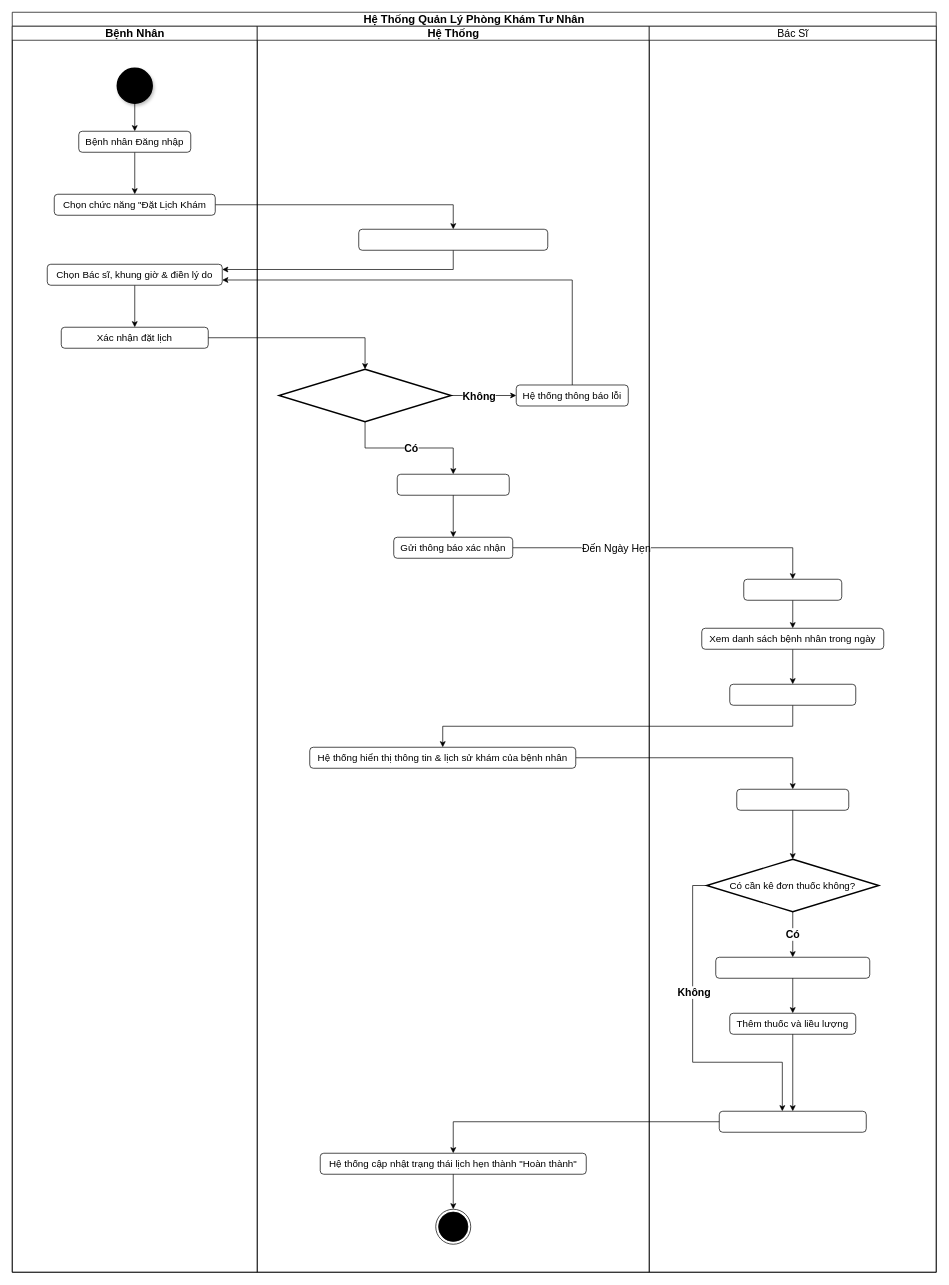
The diagram is 949 pixels wide and 1285 high, and some of its shapes have lost their labels. Here are the shapes that lost their labels. From the top down, the centre of each, then its label:
(453,239): Hệ thống hiển thị DS Bác sĩ & Lịch trống
(364,395): Lịch hẹn có hợp lệ không?
(453,484): Hệ thống lưu lịch hẹn
(792,589): Bác Sĩ Đăng nhập
(792,694): Chọn bệnh nhân để khám
(792,799): Tạo hồ sơ khám bệnh
(792,967): Chọn chức năng "Kê đơn thuốc"
(792,1121): Lưu hồ sơ khám và đơn thuốc
